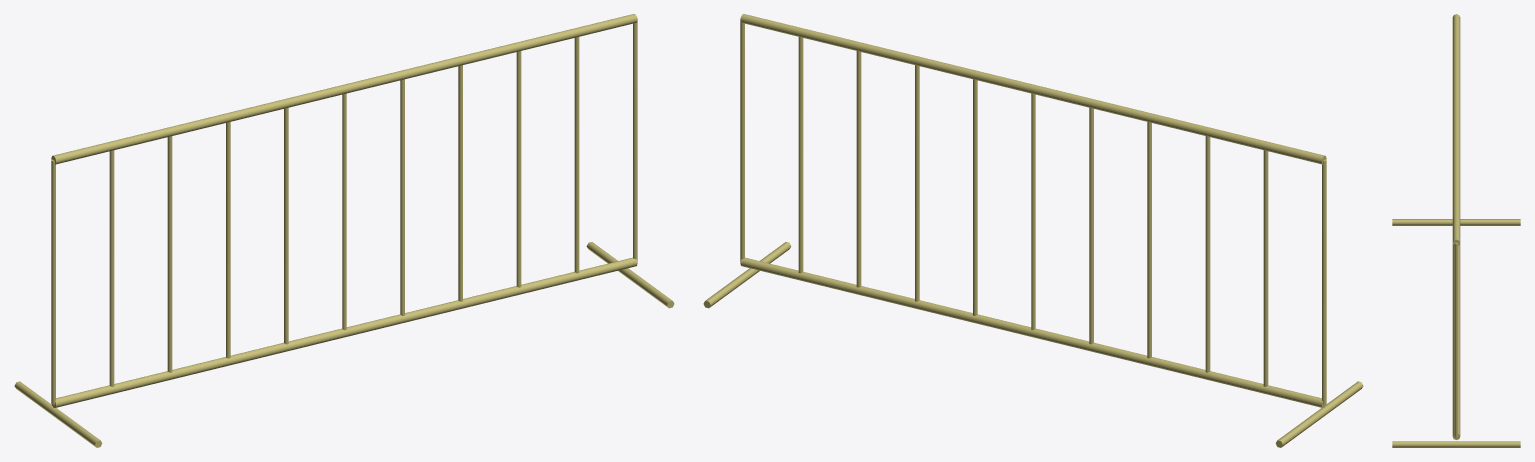
Rendered from fence_bike_rack.glb.
The picture shows the model from 3 angles, left to right: view 1: azimuth 30°, elevation 25°; view 2: azimuth 150°, elevation 25°; view 3: azimuth 270°, elevation 25°; orthographic projection. The views are drawn at different scales.
Parts seen in each view (by area): view 1: fence_bike_rack; view 2: fence_bike_rack; view 3: fence_bike_rack.
Boxes of the visible parts, <box> form: fence_bike_rack: <box>14,14,674,447</box>; fence_bike_rack: <box>703,14,1363,447</box>; fence_bike_rack: <box>1392,14,1520,447</box>.
Size of what is drawn, in the model's own units: 2.52 by 1.08 by 0.6.
